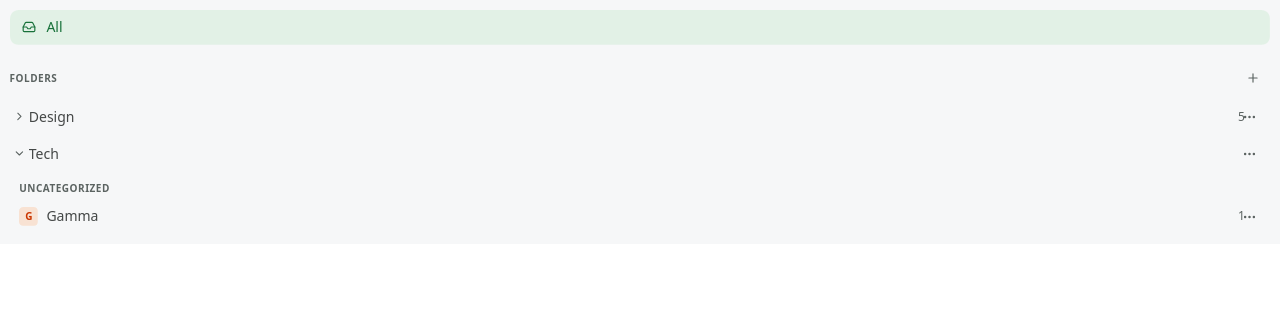
Test case: RAD-393: folder tree › collapses a folder, hiding its members, and persists the collapsed ids
Expected: the link "alpha" is not shown
Click the button named "expand design" at (19,117), box [10,99,29,134]
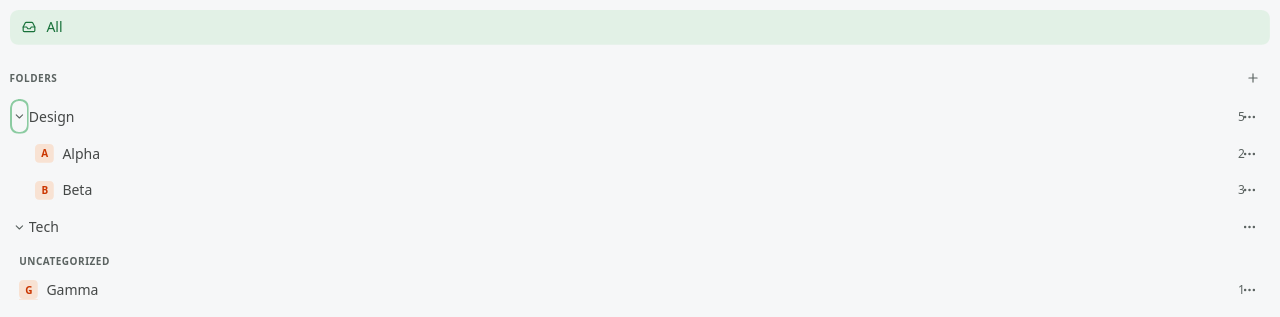
Result: the link "A Alpha 2" is shown at [35,144,1245,163]
